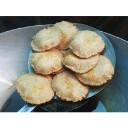poori: (16, 74, 55, 104), (74, 56, 114, 85), (51, 70, 88, 99), (63, 45, 99, 72), (70, 29, 104, 57), (31, 49, 63, 75), (31, 26, 61, 51), (54, 21, 78, 48)
